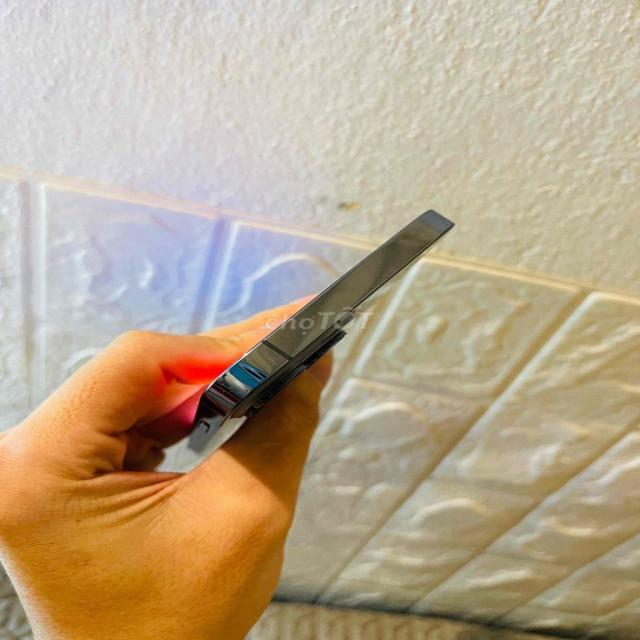gen_12_13: (170, 192, 464, 494)
